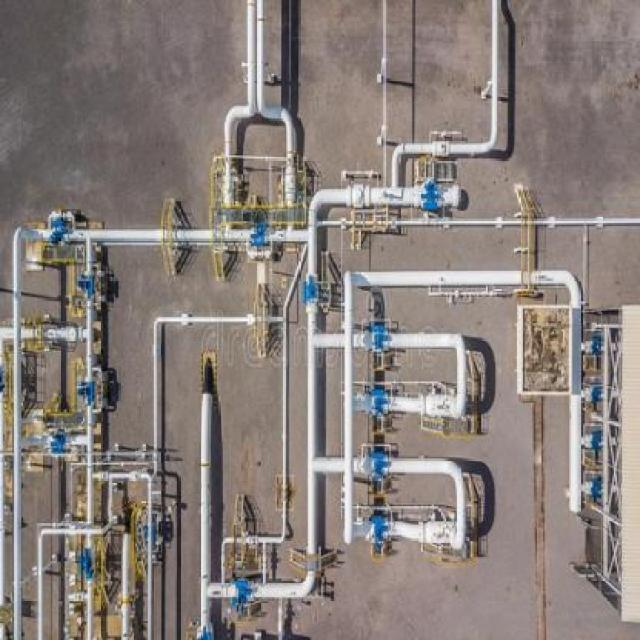gas: (309, 185, 463, 230), (343, 270, 580, 296), (19, 224, 318, 244), (84, 230, 98, 638), (317, 214, 640, 228), (200, 362, 215, 633), (566, 270, 582, 516), (344, 521, 465, 553), (308, 186, 317, 603), (317, 455, 458, 480), (308, 332, 463, 354), (13, 229, 21, 640), (343, 272, 354, 551), (199, 577, 316, 603), (396, 136, 498, 162), (0, 327, 8, 638), (0, 321, 95, 344), (363, 396, 466, 416), (281, 315, 290, 543), (491, 1, 502, 164), (244, 0, 258, 128), (146, 480, 157, 640), (277, 110, 295, 204), (121, 510, 134, 639), (153, 318, 162, 473), (226, 108, 239, 208), (382, 0, 389, 177), (258, 97, 293, 132), (37, 528, 48, 638), (454, 332, 468, 414), (456, 465, 469, 553), (256, 0, 264, 120), (392, 146, 414, 186), (153, 316, 284, 322), (40, 526, 103, 537), (98, 469, 150, 482), (229, 105, 256, 126), (220, 535, 289, 543), (220, 534, 225, 588), (278, 600, 284, 640)
